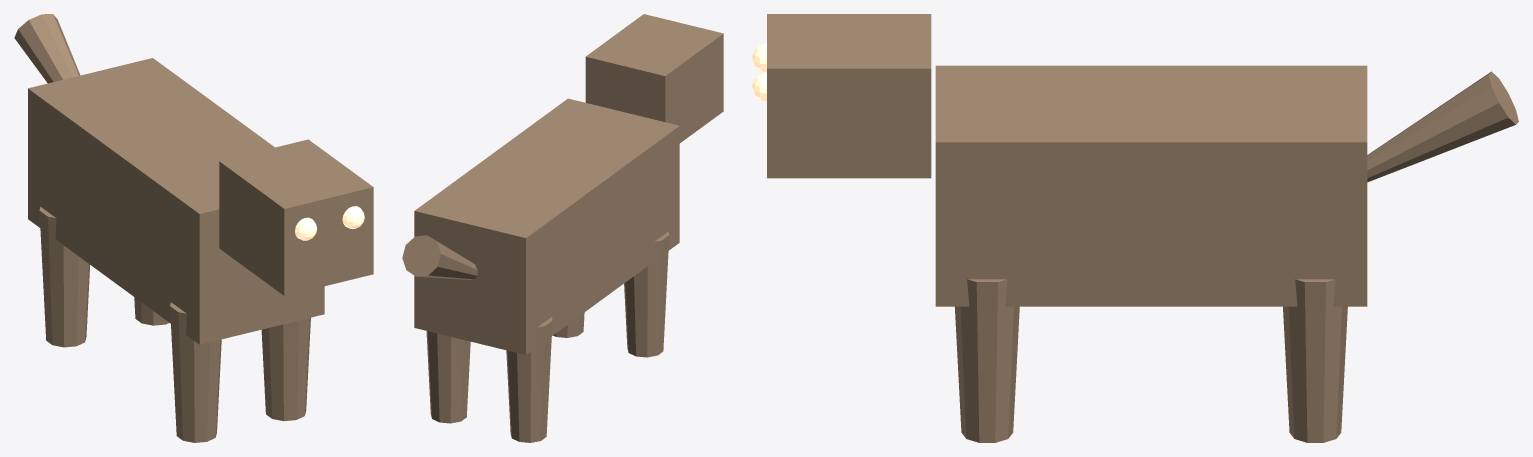
3 renders of one model, left to right at view 1: azimuth 30°, elevation 25°; view 2: azimuth 150°, elevation 25°; view 3: azimuth 270°, elevation 25°, orthographic. The views are drawn at different scales.
Parts seen in each view (by area): view 1: trunk, head, legFRm, legBRm, legFLm, tail, legBLm, eye, eye.001; view 2: trunk, head, legBRm, legFRm, legBLm, tail, legFLm; view 3: trunk, head, legBLm, legFLm, tail.
Part boxes in pixels (x1,y1,x2,y2): trunk: (28, 58, 324, 344); head: (219, 139, 373, 295); legFRm: (170, 302, 221, 442); legBRm: (39, 206, 89, 347); legFLm: (261, 317, 310, 421); tail: (14, 14, 80, 83); legBLm: (134, 297, 169, 325); eye: (295, 217, 317, 240); eye.001: (342, 206, 364, 228); trunk: (414, 98, 679, 354); head: (585, 14, 723, 143); legBRm: (506, 317, 552, 442); legFRm: (624, 231, 669, 357); legBLm: (426, 331, 470, 423); tail: (402, 235, 477, 279); legFLm: (553, 312, 584, 337); trunk: (935, 65, 1367, 306); head: (767, 14, 931, 178); legBLm: (1283, 279, 1347, 442); legFLm: (955, 279, 1019, 442); tail: (1367, 71, 1518, 182).
Size of the model in its own units: 0.6556 by 1.35 by 2.58.
